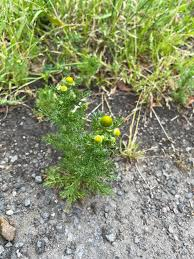pineple: (30, 78, 161, 222)
